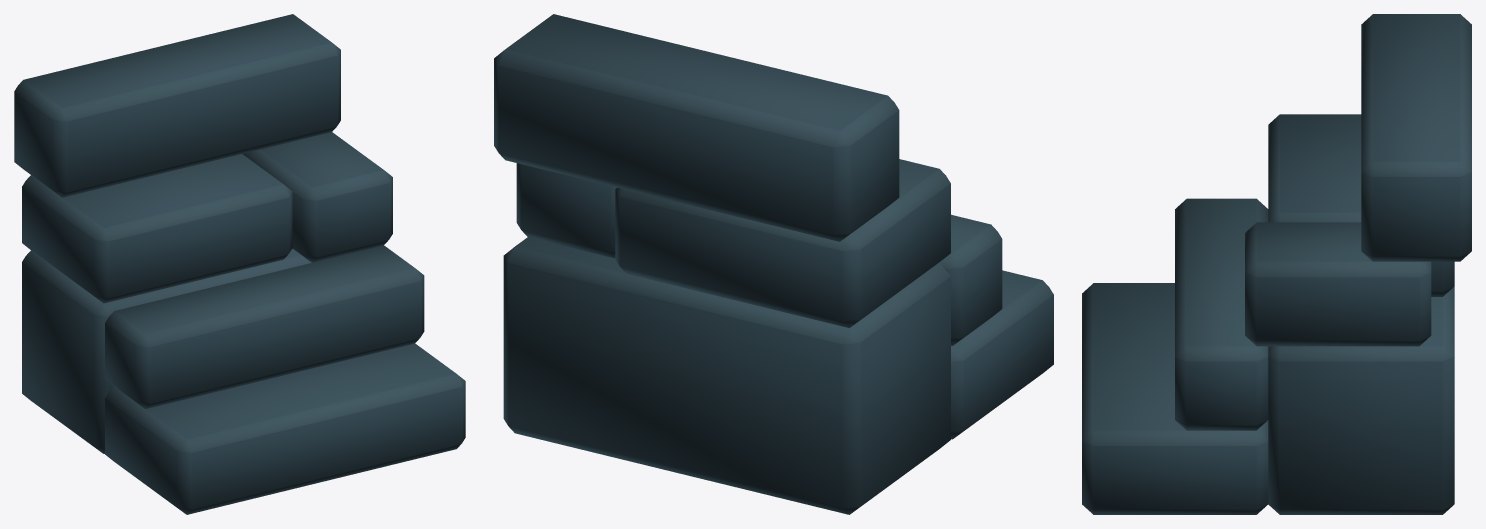
The model's file is stair_straight_1_hue_4.fbx.
3 renders of one model, left to right at view 1: azimuth 30°, elevation 25°; view 2: azimuth 150°, elevation 25°; view 3: azimuth 270°, elevation 25°, orthographic. The views are drawn at different scales.
Parts seen in each view (by area): view 1: stair_straight_1_hue_4; view 2: stair_straight_1_hue_4; view 3: stair_straight_1_hue_4.
Boxes of the visible parts, x1,y1,x2,y2 form: stair_straight_1_hue_4: (14,14,465,514); stair_straight_1_hue_4: (494,14,1053,514); stair_straight_1_hue_4: (1082,14,1471,514).
Size of the model in its own units: 100 by 105 by 105.
